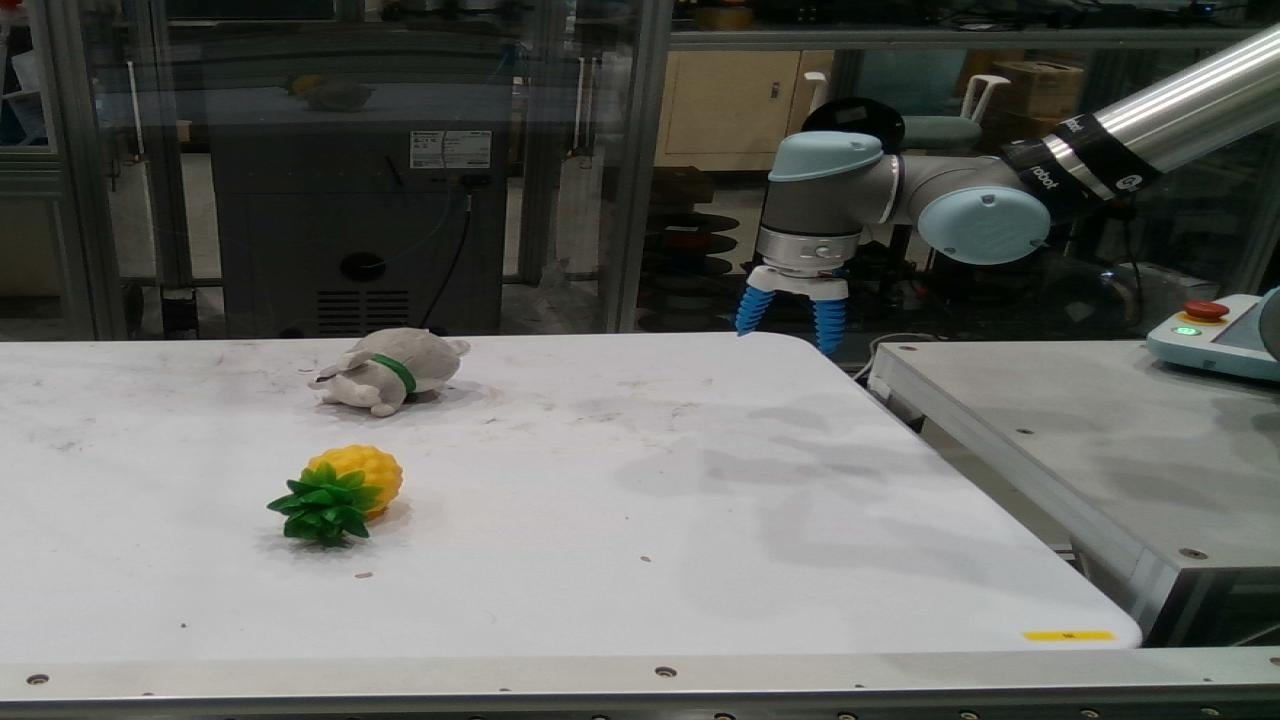UR5: (748, 24, 1279, 301), (1146, 288, 1279, 381)
gripper_left: (735, 286, 774, 335)
gripper_right: (813, 299, 845, 355)
target: (308, 329, 470, 416), (268, 445, 401, 546)
